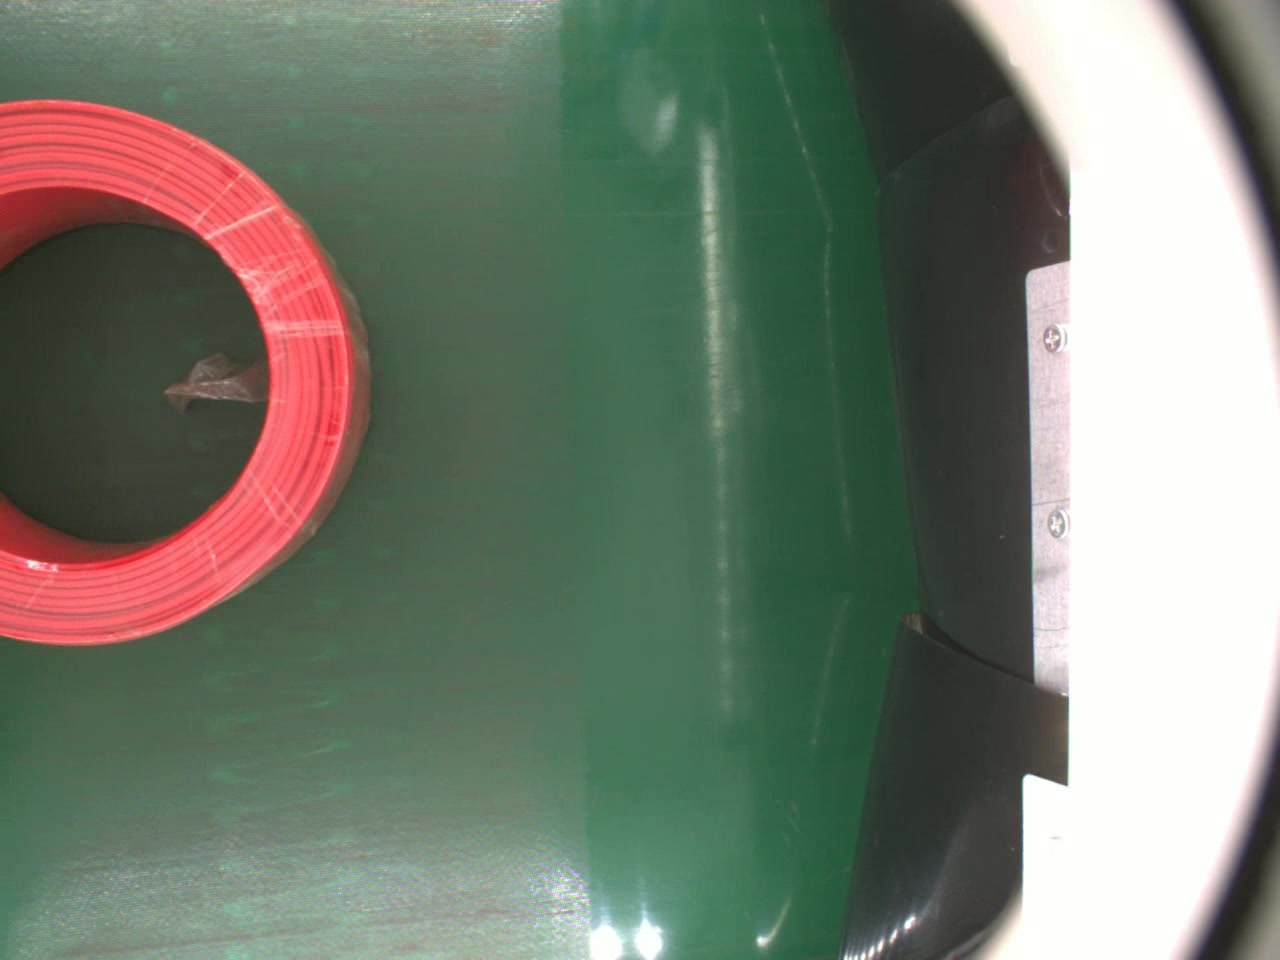red: (0, 93, 373, 646)
